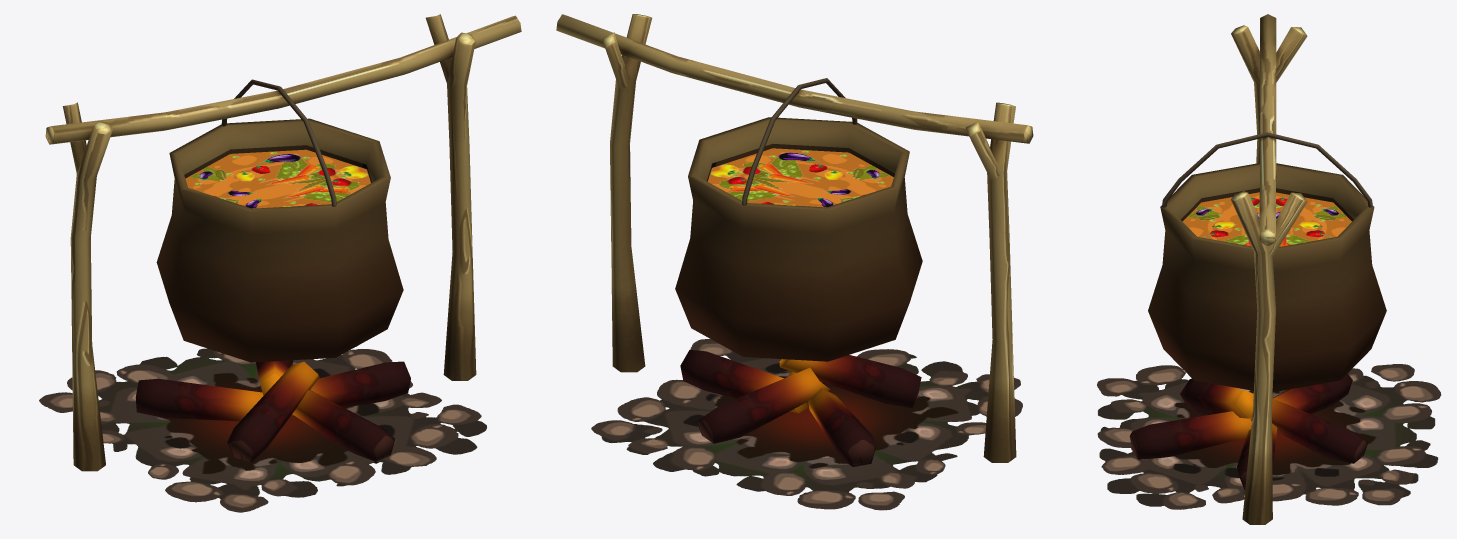
Rendered from Cauldron.FBX.
The picture shows the model from 3 angles, left to right: view 1: azimuth 30°, elevation 25°; view 2: azimuth 150°, elevation 25°; view 3: azimuth 270°, elevation 25°; orthographic projection. The views are drawn at different scales.
Visible parts, largest first — view 1: Cauldron; view 2: Cauldron; view 3: Cauldron.
Boxes of the visible parts, x1=… form: Cauldron: x1=39, y1=14, x2=521, y2=512; Cauldron: x1=556, y1=14, x2=1033, y2=510; Cauldron: x1=1097, y1=14, x2=1441, y2=524.
Bounding box in the file's own units: 79.11 × 56.89 × 54.64.
1 material, 1 textured.
